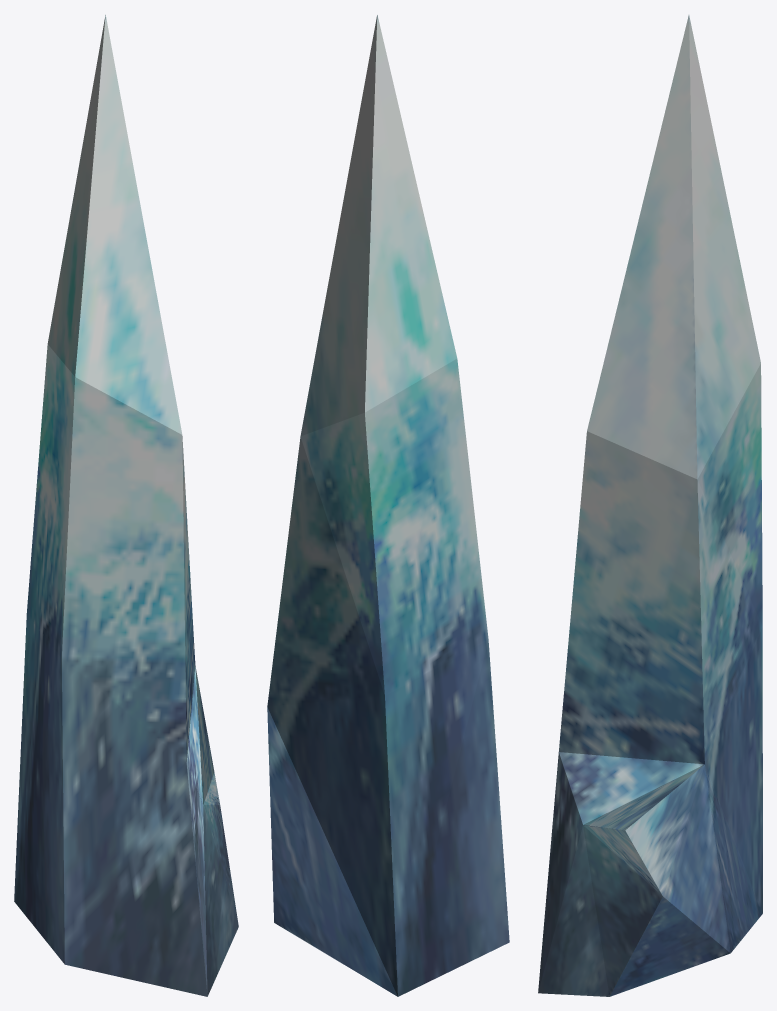
The model's file is bing.FBX.
3 views of the same model, side by side, from view 1: azimuth 30°, elevation 25°; view 2: azimuth 150°, elevation 25°; view 3: azimuth 270°, elevation 25° (orthographic). The views are drawn at different scales.
Visible parts, largest first — view 1: bingzhu; view 2: bingzhu; view 3: bingzhu.
Part boxes in pixels (x1,y1,x2,y2): bingzhu: [14, 15, 238, 996]; bingzhu: [267, 15, 509, 996]; bingzhu: [538, 15, 762, 996].
Bounding box in the file's own units: 141 × 682 × 144.
